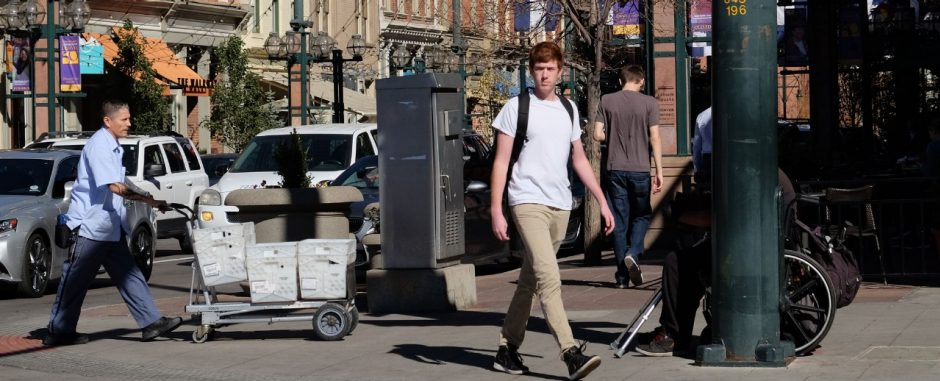pedestrian: (475, 40, 610, 370), (42, 97, 186, 345)
